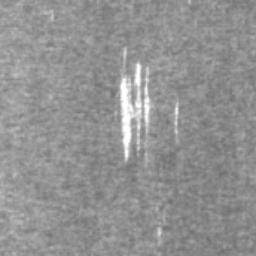White rust: (119, 63, 152, 161), (174, 102, 179, 128)
